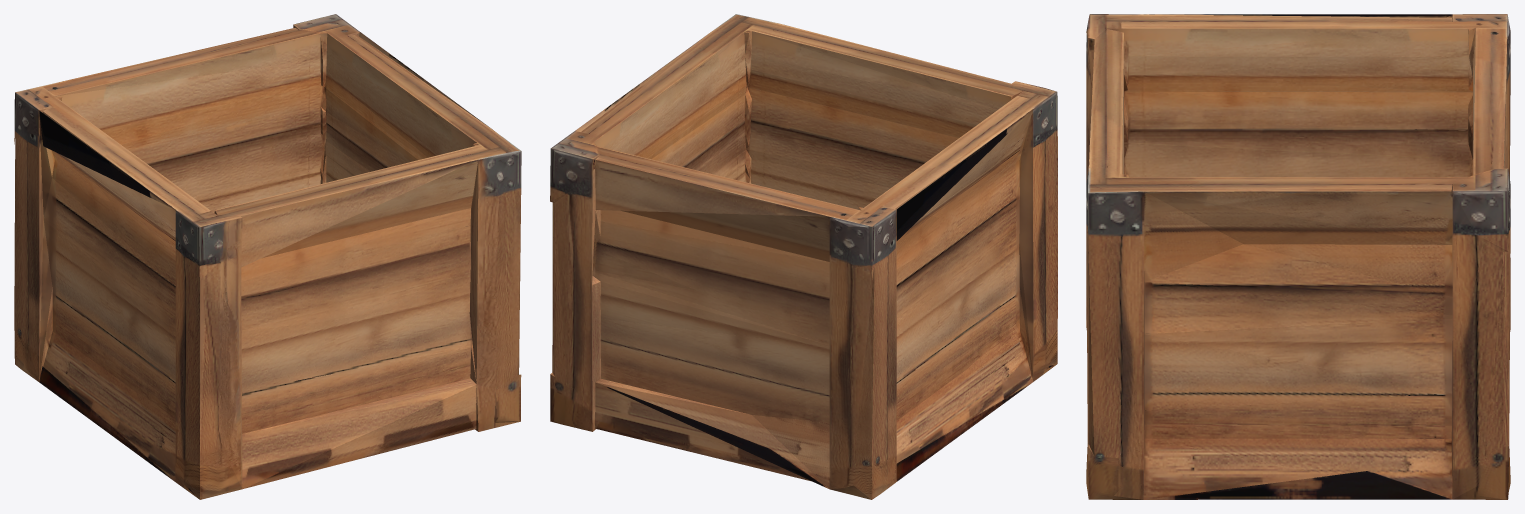
Rendered from wooden_crate.glb.
The picture shows the model from 3 angles, left to right: view 1: azimuth 30°, elevation 25°; view 2: azimuth 150°, elevation 25°; view 3: azimuth 270°, elevation 25°; orthographic projection. The views are drawn at different scales.
Size of the model in its own units: 1.9 by 1.52 by 1.9.
Materials: 1 (1 with a texture image).
